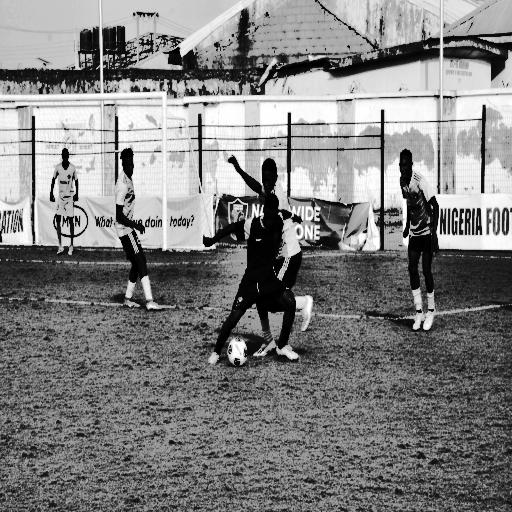ball: (226, 330, 250, 372)
keeper1: (46, 140, 87, 258)
team1: (383, 142, 449, 339), (110, 138, 168, 324), (263, 145, 315, 341)
team2: (206, 195, 301, 388)
